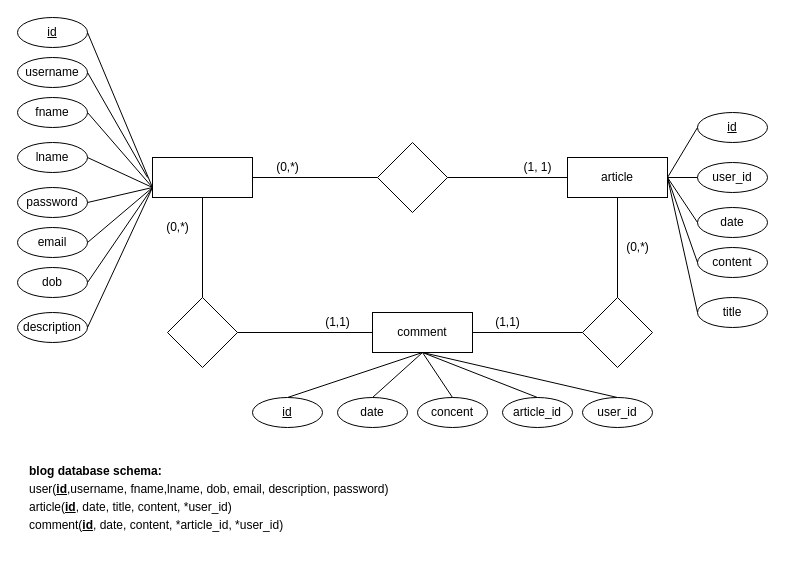
The diagram is 785 pixels wide and 563 high, and some of its shapes have lost their labels. The box of each missing label's shape, as (x1, y1, x2, y2) in pixels:
has: (582, 296, 652, 368)
make: (166, 296, 238, 368)
user: (152, 156, 252, 198)
write: (376, 142, 448, 212)
